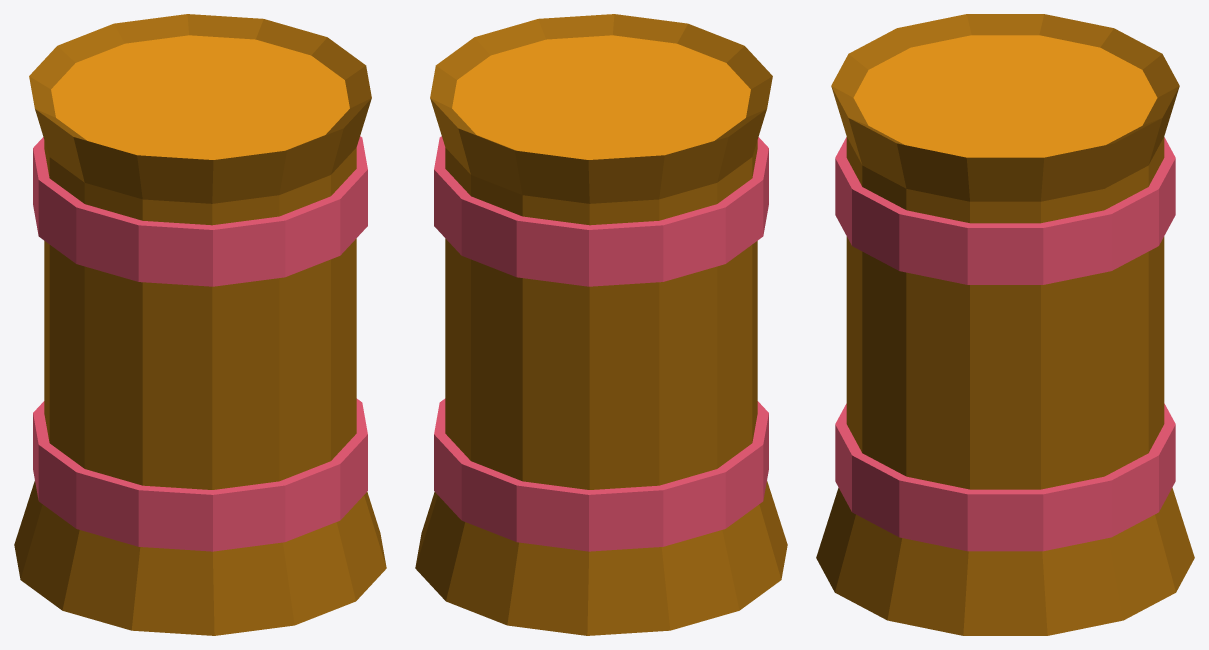
The model's file is heybale.fbx.
The picture shows the model from 3 angles, left to right: view 1: azimuth 30°, elevation 25°; view 2: azimuth 150°, elevation 25°; view 3: azimuth 270°, elevation 25°; orthographic projection.
Visible parts, largest first — view 1: Cylinder, Cylinderr; view 2: Cylinder, Cylinderr; view 3: Cylinder, Cylinderr.
Boxes of the visible parts, x1,y1,x2,y2 form: Cylinder: (14,14,386,635); Cylinderr: (33,136,367,551); Cylinder: (415,14,787,635); Cylinderr: (434,136,768,551); Cylinder: (816,14,1194,635); Cylinderr: (835,137,1175,551).
Bounding box in the file's own units: 233 × 328 × 239.
